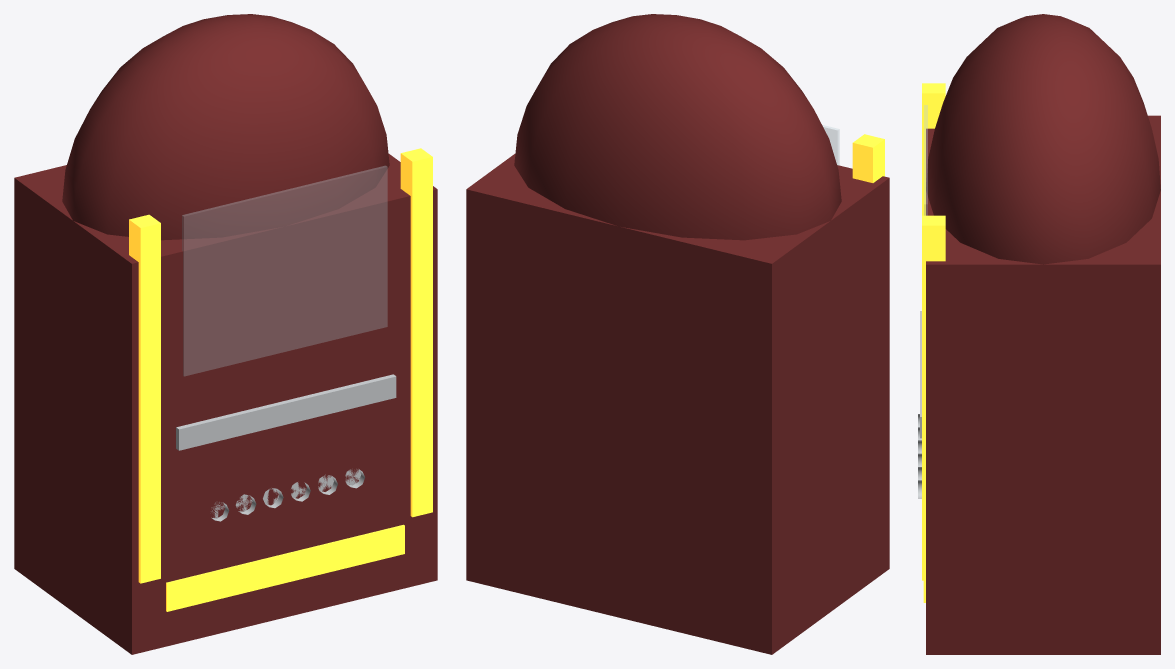
File: jukebox.glb
The picture shows the model from 3 angles, left to right: view 1: azimuth 30°, elevation 25°; view 2: azimuth 150°, elevation 25°; view 3: azimuth 270°, elevation 25°; orthographic projection.
Visible parts, largest first — view 1: jukebox; view 2: jukebox; view 3: jukebox.
Boxes of the visible parts, left/top/right/bottom form: jukebox: left=14, top=14, right=437, bottom=654; jukebox: left=466, top=14, right=889, bottom=654; jukebox: left=918, top=14, right=1160, bottom=654.
Size of the model in its own units: 0.9 by 1.55 by 0.62.
